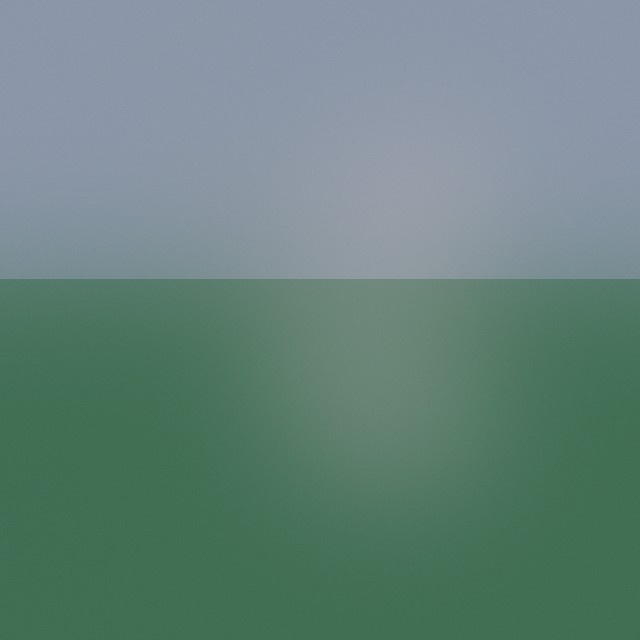smoke: (168, 132, 432, 396)
